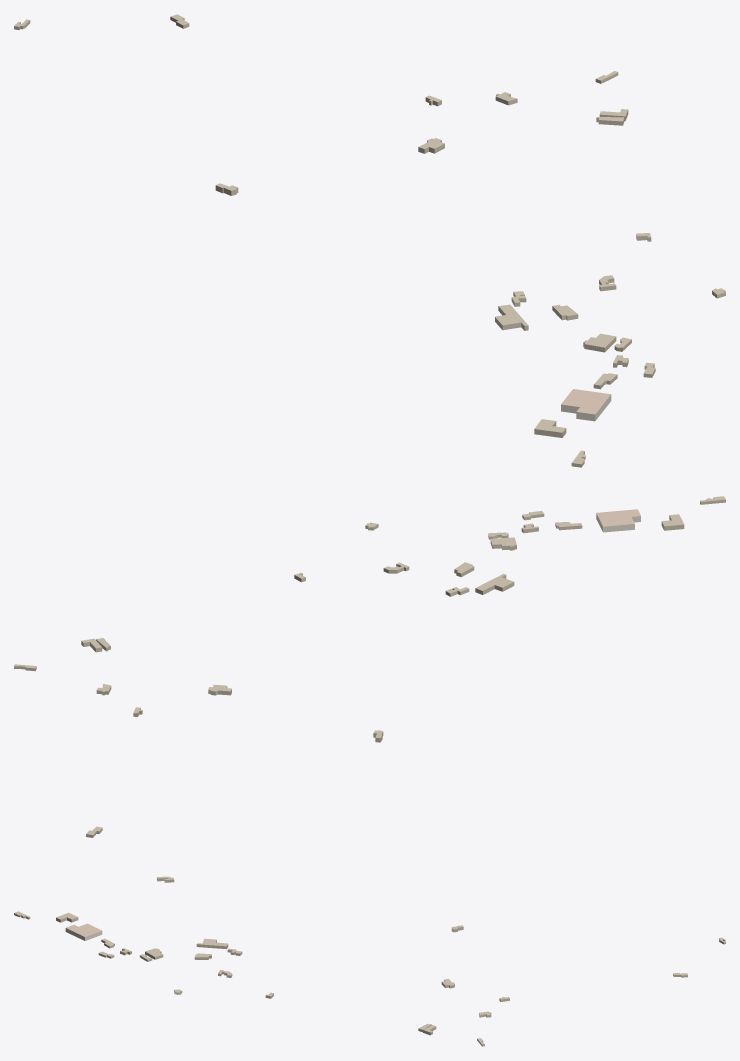
3 views of the same model, one above another, from view 1: azimuth 30°, elevation 25°; view 2: azimuth 150°, elevation 25°; view 3: azimuth 270°, elevation 25° (orthographic). The views are drawn at different scales.
Size of the model in its own units: 913 by 52.1 by 2175.
